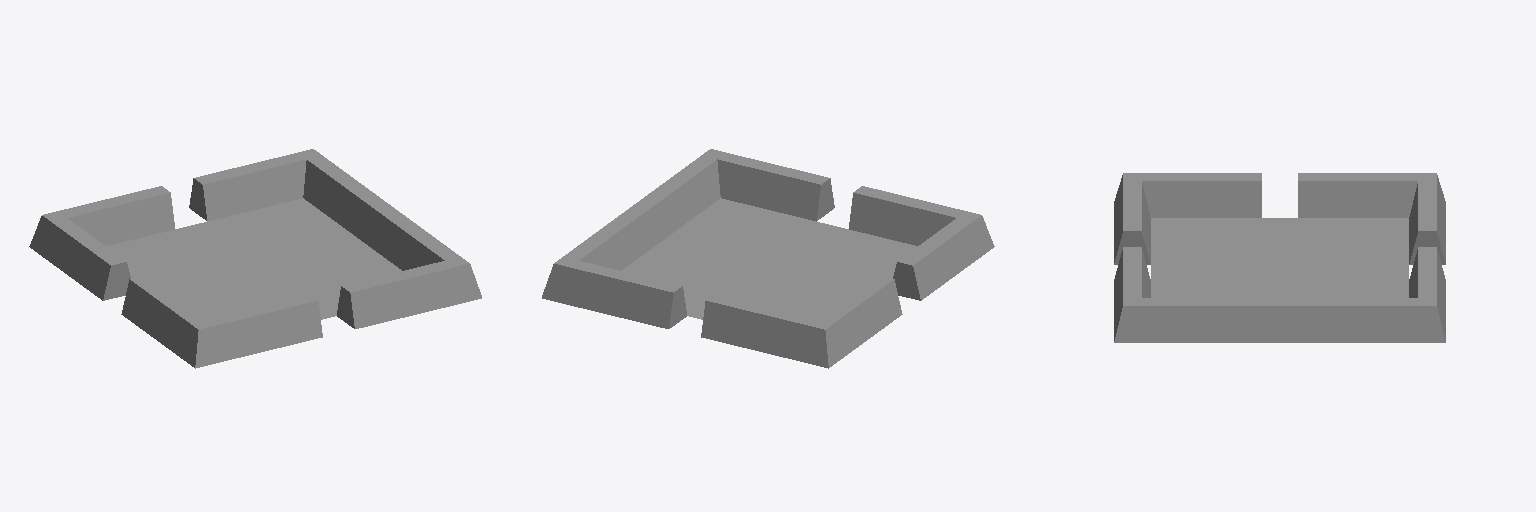
Rendered from sala_11.obj.
3 views of the same model, side by side, from view 1: azimuth 30°, elevation 25°; view 2: azimuth 150°, elevation 25°; view 3: azimuth 270°, elevation 25° (orthographic).
Parts seen in each view (by area): view 1: Ground_Plane, Wall.000_Cube.011, Wall.007_Cube.017, Wall.002_Cube.014, Wall.004_Cube.015, Wall.005_Cube.002, Wall.006_Cube.016, Wall.003_Cube.010, Wall.001_Cube.012; view 2: Ground_Plane, Wall.002_Cube.014, Wall.005_Cube.002, Wall.000_Cube.011, Wall.006_Cube.016, Wall.007_Cube.017, Wall.004_Cube.015, Wall.001_Cube.012, Wall.003_Cube.010; view 3: Ground_Plane, Wall.003_Cube.010, Wall.001_Cube.012, Wall.004_Cube.015, Wall.006_Cube.016, Wall.005_Cube.002, Wall.007_Cube.017, Wall.000_Cube.011, Wall.002_Cube.014.
Boxes of the visible parts, box(x1,y1,x2,y2) form: Ground_Plane: box(106, 198, 401, 319); Wall.000_Cube.011: box(337, 261, 481, 328); Wall.007_Cube.017: box(195, 294, 322, 368); Wall.002_Cube.014: box(189, 149, 312, 221); Wall.004_Cube.015: box(29, 215, 130, 300); Wall.005_Cube.002: box(44, 186, 174, 245); Wall.006_Cube.016: box(121, 275, 204, 367); Wall.003_Cube.010: box(303, 149, 390, 244); Wall.001_Cube.012: box(368, 206, 468, 270); Ground_Plane: box(622, 198, 917, 319); Wall.002_Cube.014: box(542, 261, 686, 328); Wall.005_Cube.002: box(701, 294, 828, 368); Wall.000_Cube.011: box(711, 149, 834, 221); Wall.006_Cube.016: box(893, 215, 994, 300); Wall.007_Cube.017: box(849, 186, 979, 245); Wall.004_Cube.015: box(819, 275, 902, 367); Wall.001_Cube.012: box(633, 149, 720, 244); Wall.003_Cube.010: box(555, 206, 655, 270); Ground_Plane: box(1151, 218, 1408, 297); Wall.003_Cube.010: box(1280, 298, 1445, 342); Wall.001_Cube.012: box(1114, 298, 1279, 342); Wall.004_Cube.015: box(1298, 173, 1435, 217); Wall.006_Cube.016: box(1124, 173, 1261, 217); Wall.005_Cube.002: box(1409, 173, 1445, 264); Wall.007_Cube.017: box(1114, 173, 1150, 264); Wall.000_Cube.011: box(1114, 247, 1150, 340); Wall.002_Cube.014: box(1409, 247, 1445, 340).
Size of the model in its own units: 18 by 2 by 18.